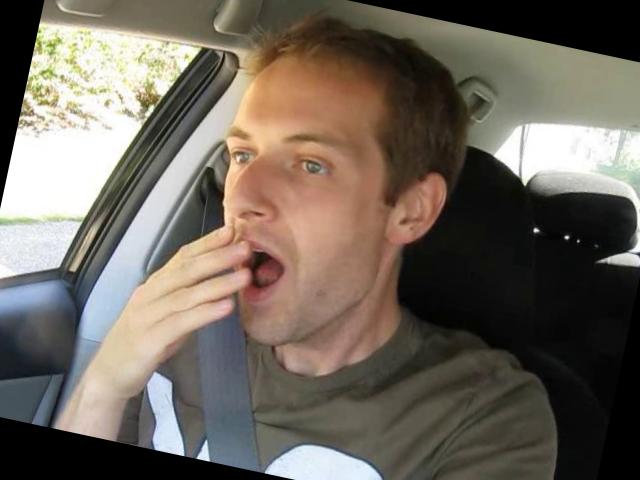eye_open: (285, 144, 341, 190), (229, 143, 260, 168)
face: (186, 98, 384, 361)
mouth_open: (226, 230, 296, 314)
